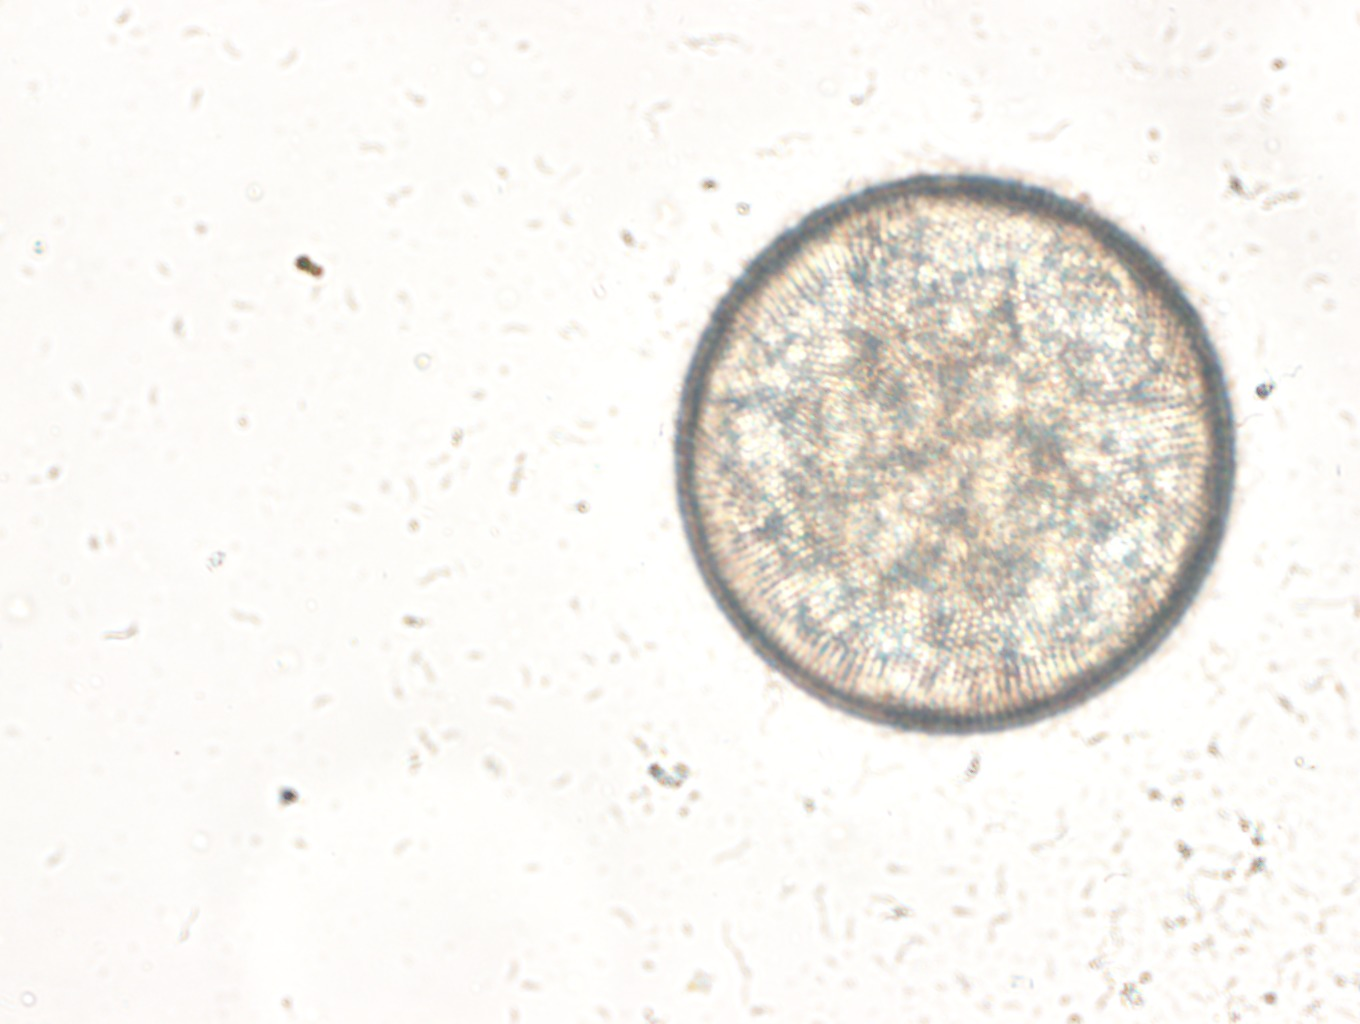coscinodiscus: (667, 168, 1249, 743)
